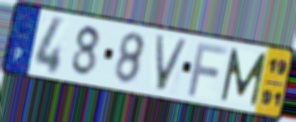4: (33, 14, 63, 77)
8: (113, 30, 147, 86), (69, 24, 102, 79)
F: (186, 40, 230, 98)
M: (219, 46, 269, 108)
V: (153, 33, 191, 93)
